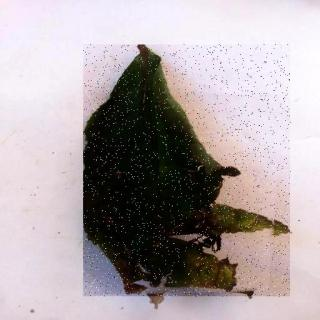Brown Blight: (85, 46, 292, 298)
